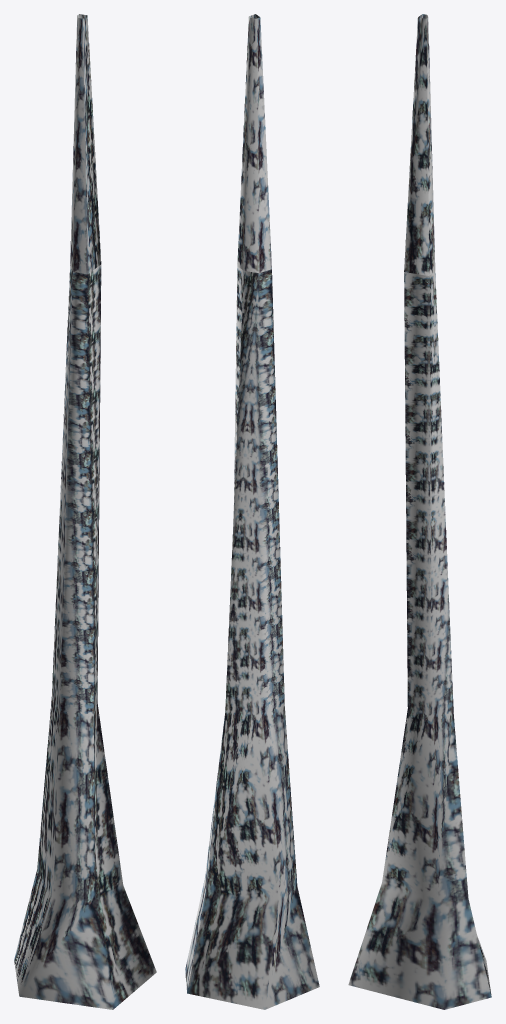
The model's file is tree0901.obj.
The picture shows the model from 3 angles, left to right: view 1: azimuth 90°, elevation 25°; view 2: azimuth 150°, elevation 25°; view 3: azimuth 270°, elevation 25°; orthographic projection.
Parts seen in each view (by area): view 1: tree0901; view 2: tree0901; view 3: tree0901.
Part boxes in pixels (x1,y1,x2,y2): tree0901: [14, 14, 156, 1009]; tree0901: [185, 14, 319, 1009]; tree0901: [348, 14, 491, 1009].
Bounding box in the file's own units: 32.31 × 275 × 36.74.
